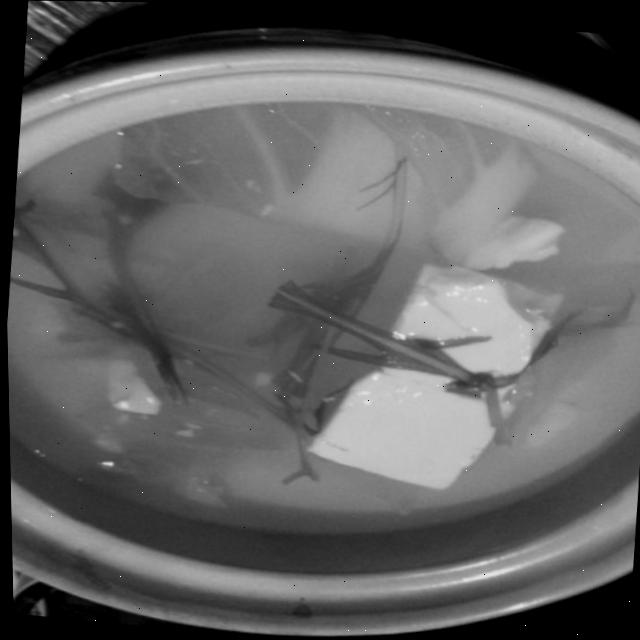豆腐料理: (1, 30, 640, 633)
